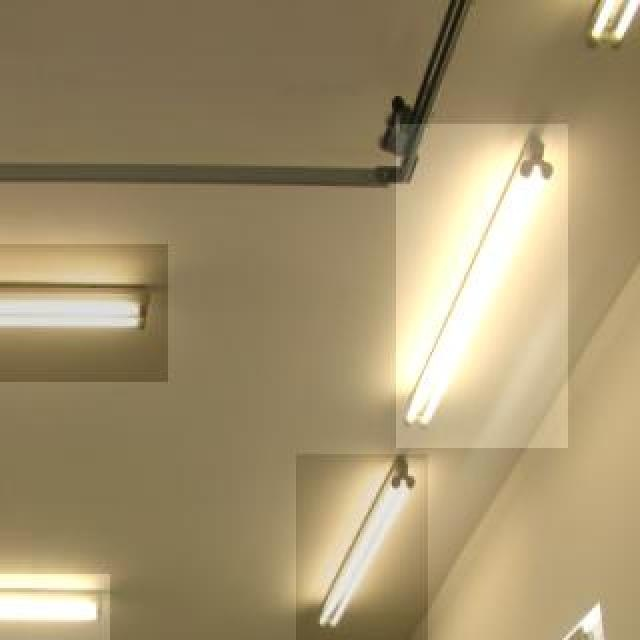fluorescent tube: (404, 140, 560, 425), (309, 471, 416, 638), (0, 276, 158, 358), (0, 560, 104, 634)
